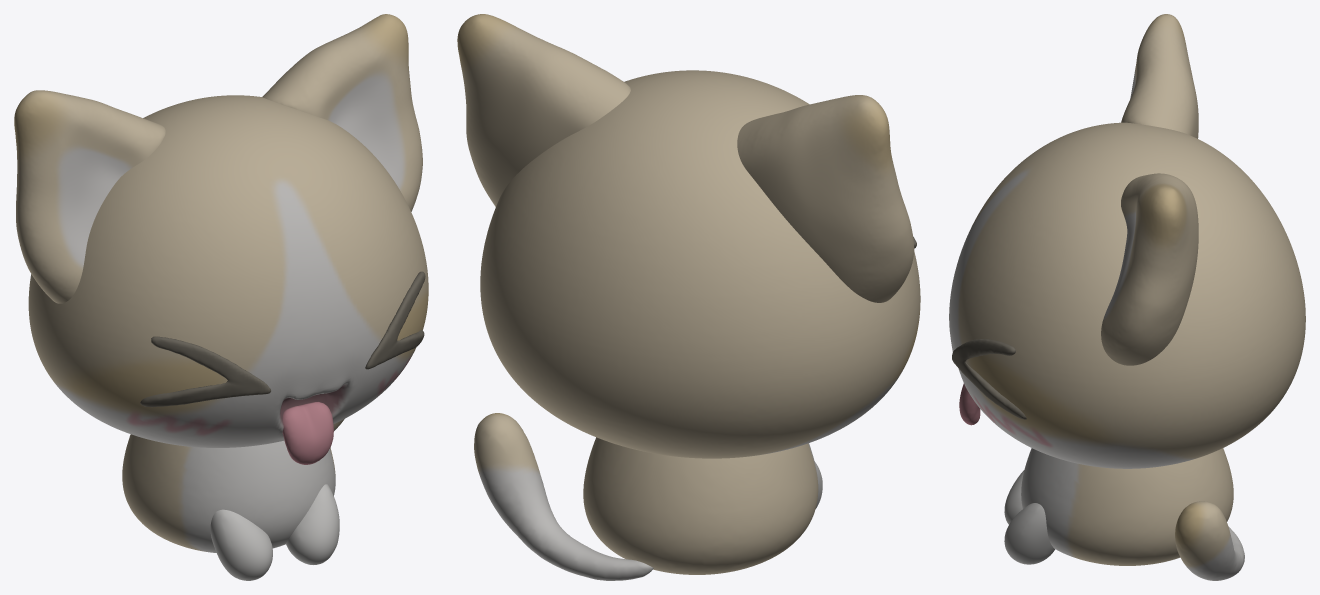
File: cute_cat_no_grass.glb
3 views of the same model, side by side, from view 1: azimuth 30°, elevation 25°; view 2: azimuth 150°, elevation 25°; view 3: azimuth 270°, elevation 25° (orthographic). The views are drawn at different scales.
Parts seen in each view (by area): view 1: Head, Ears, CuteCat, Legs, Extract1, Tongue; view 2: Head, Ears, CuteCat, Tail; view 3: Head, Ears, CuteCat, Tail, Legs, Extract1, Tongue.
Boxes of the visible parts, left/top/right/bottom form: Head: left=28, top=95, right=428, bottom=447; Ears: left=14, top=14, right=422, bottom=303; CuteCat: left=122, top=434, right=335, bottom=552; Legs: left=210, top=484, right=339, bottom=580; Extract1: left=140, top=271, right=425, bottom=407; Tongue: left=282, top=402, right=333, bottom=464; Head: left=480, top=70, right=920, bottom=458; Ears: left=457, top=14, right=914, bottom=302; CuteCat: left=583, top=437, right=818, bottom=574; Tail: left=474, top=413, right=653, bottom=580; Head: left=949, top=122, right=1305, bottom=468; Ears: left=1101, top=14, right=1198, bottom=365; CuteCat: left=1021, top=448, right=1233, bottom=565; Tail: left=1175, top=501, right=1244, bottom=580; Legs: left=1004, top=470, right=1055, bottom=564; Extract1: left=952, top=339, right=1026, bottom=419; Tongue: left=959, top=383, right=980, bottom=425.
Size of the model in its own units: 4.21 by 4.75 by 3.4.
